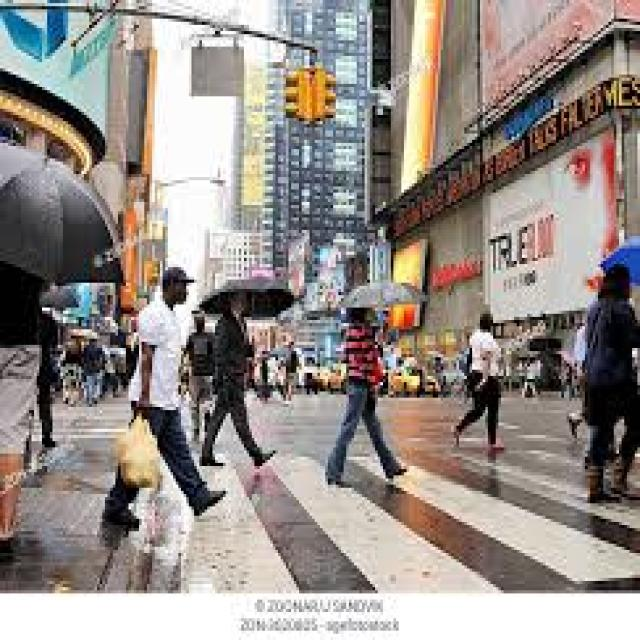Pedestrians: (100, 274, 228, 532), (322, 298, 414, 488), (574, 264, 640, 500), (207, 292, 281, 469), (449, 311, 514, 454)
